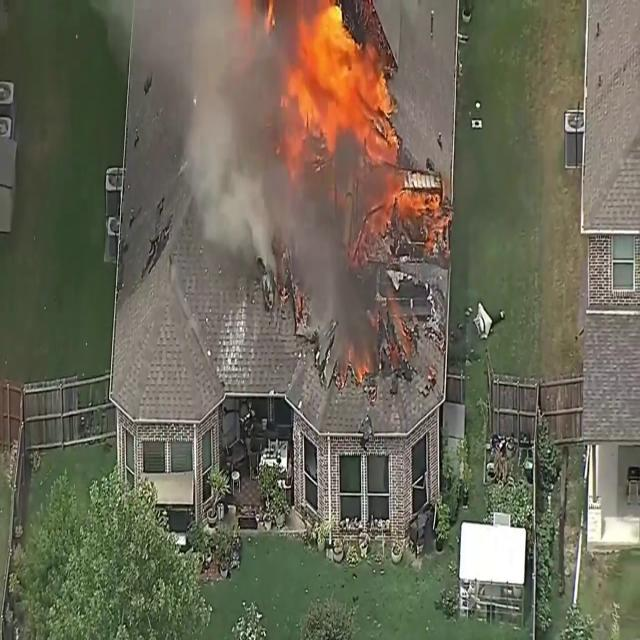Fire: (276, 2, 398, 161)
Smoke: (160, 0, 302, 279), (262, 149, 376, 371)
